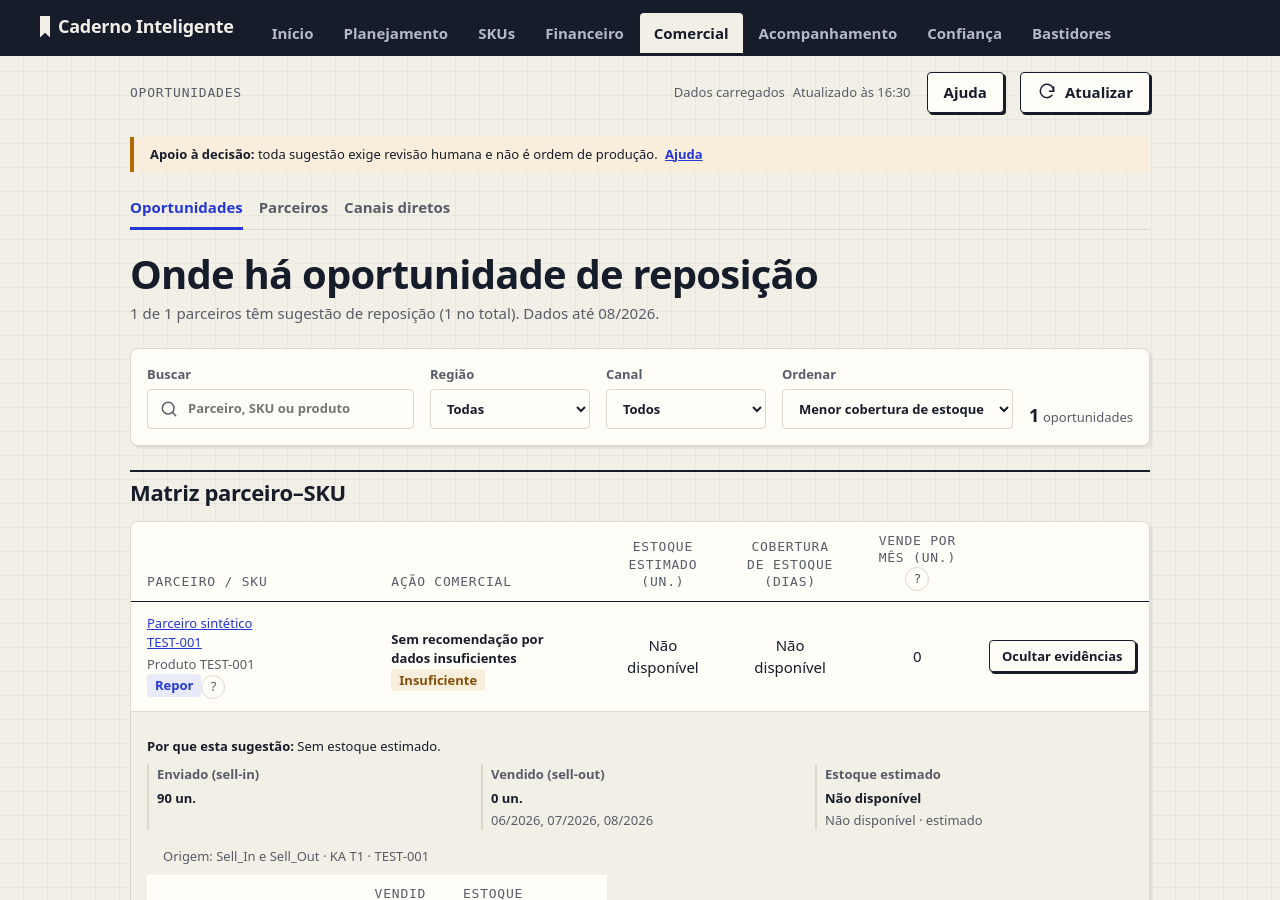
Test: parceiros: oportunidades e evidências na própria linha › lista as oportunidades de reposição e abre a evidência com um clique
Expected: the heading "Onde há oportunidade de reposição" is shown, [130, 254, 818, 294]
Expected: the text "Por que esta sugestão:" is shown, [147, 737, 294, 755]
Click the button with aria-label "Evidências de".
click(1062, 656)  # box [989, 640, 1136, 672]
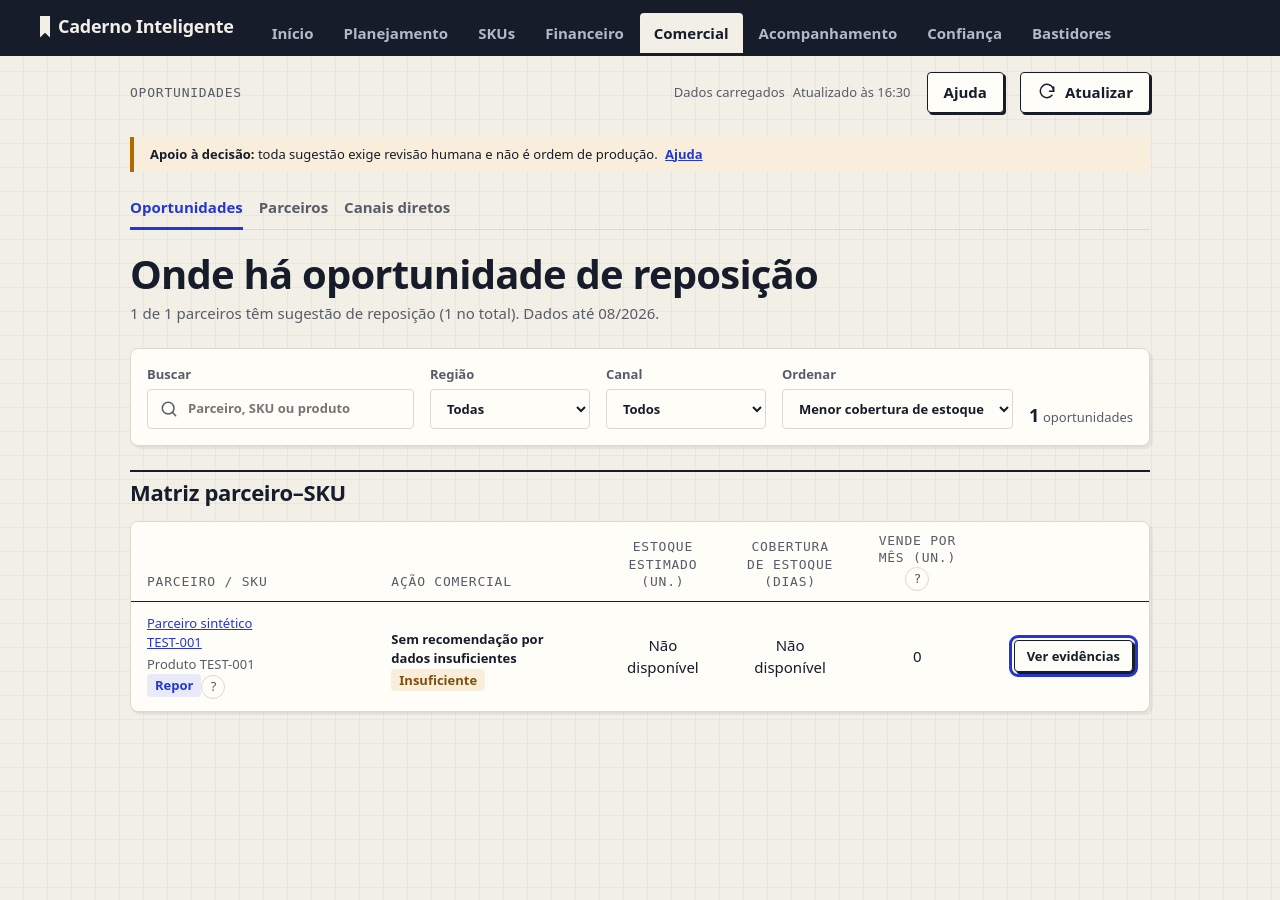
Expected: the button with aria-label "Evidências de" is collapsed
Expected: the text "Por que esta sugestão" is gone
Click the button with aria-label "Evidências de".
click(1073, 656)  # box [1014, 640, 1133, 672]
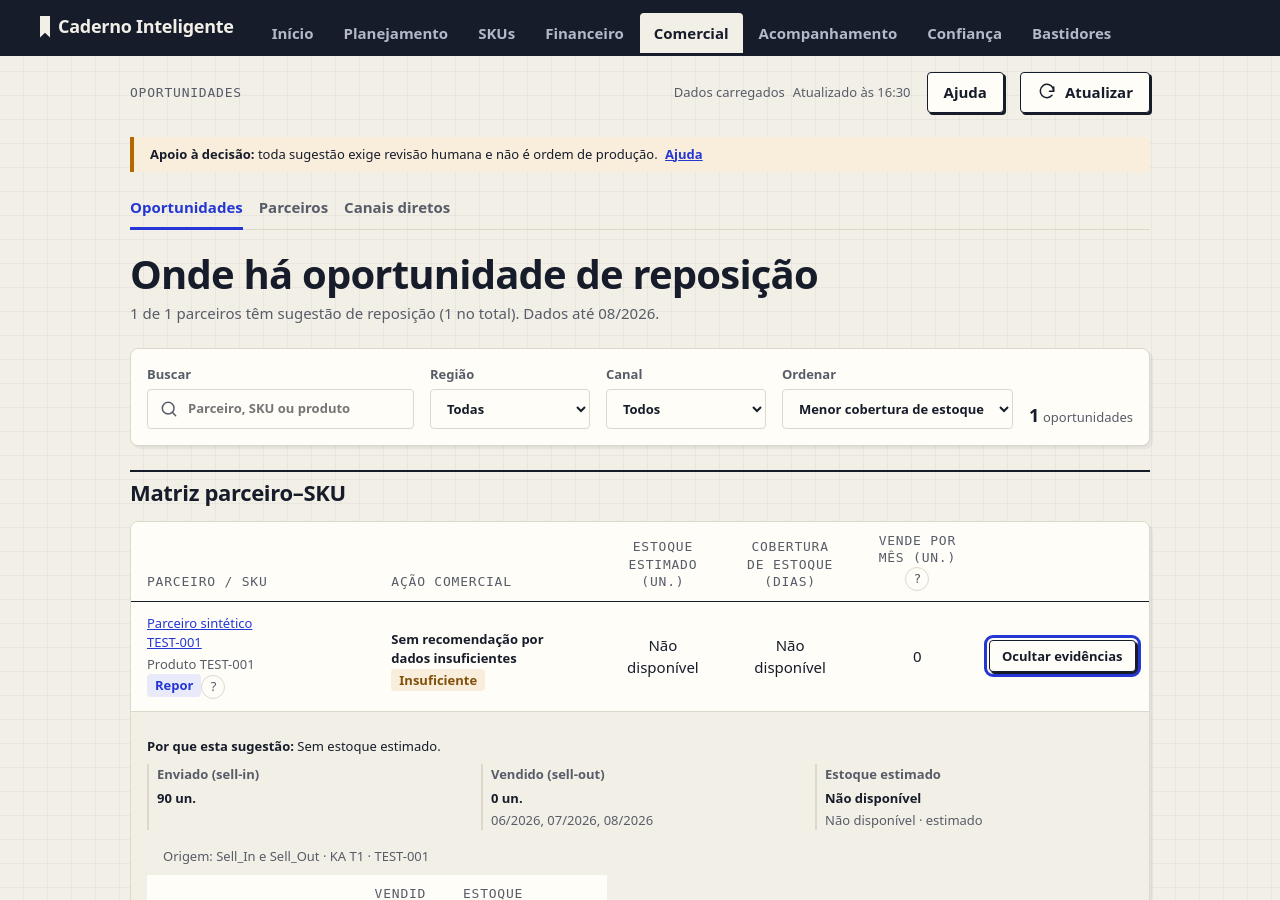
Expected: the button with aria-label "Evidências de" is expanded, [989, 640, 1136, 672]
